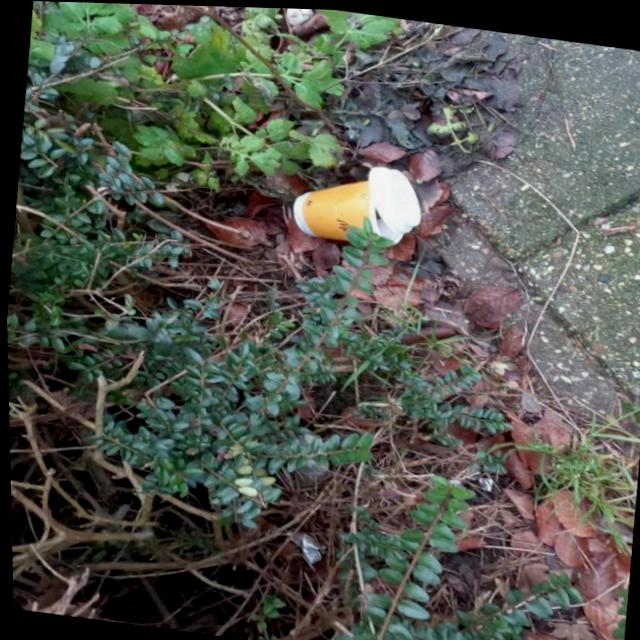Cup: (283, 153, 419, 247)
